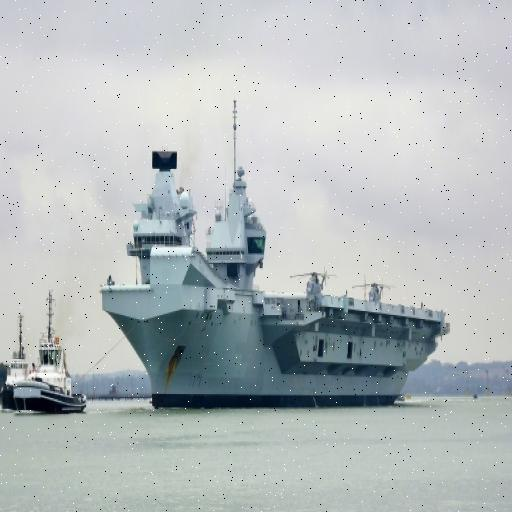Portanaves: (97, 92, 452, 417)
